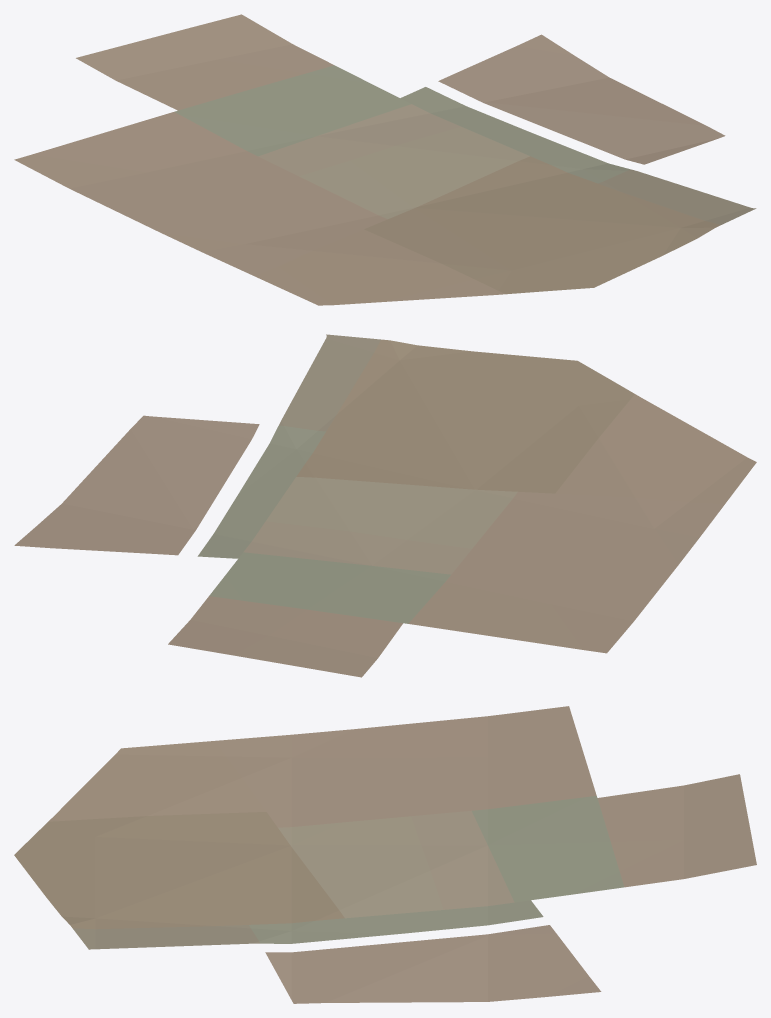
Rendered from farm_-2_16_soil.glb.
The picture shows the model from 3 angles, top to bottom: view 1: azimuth 30°, elevation 25°; view 2: azimuth 150°, elevation 25°; view 3: azimuth 270°, elevation 25°; orthographic projection. The views are drawn at different scales.
Parts seen in each view (by area): view 1: geometry_0; view 2: geometry_0; view 3: geometry_0.
Part boxes in pixels (x1=…): geometry_0: x1=14, y1=14, x2=756, y2=305; geometry_0: x1=14, y1=334, x2=756, y2=677; geometry_0: x1=14, y1=706, x2=756, y2=1003.
Bounding box in the file's own units: 272 × 12.38 × 303.
